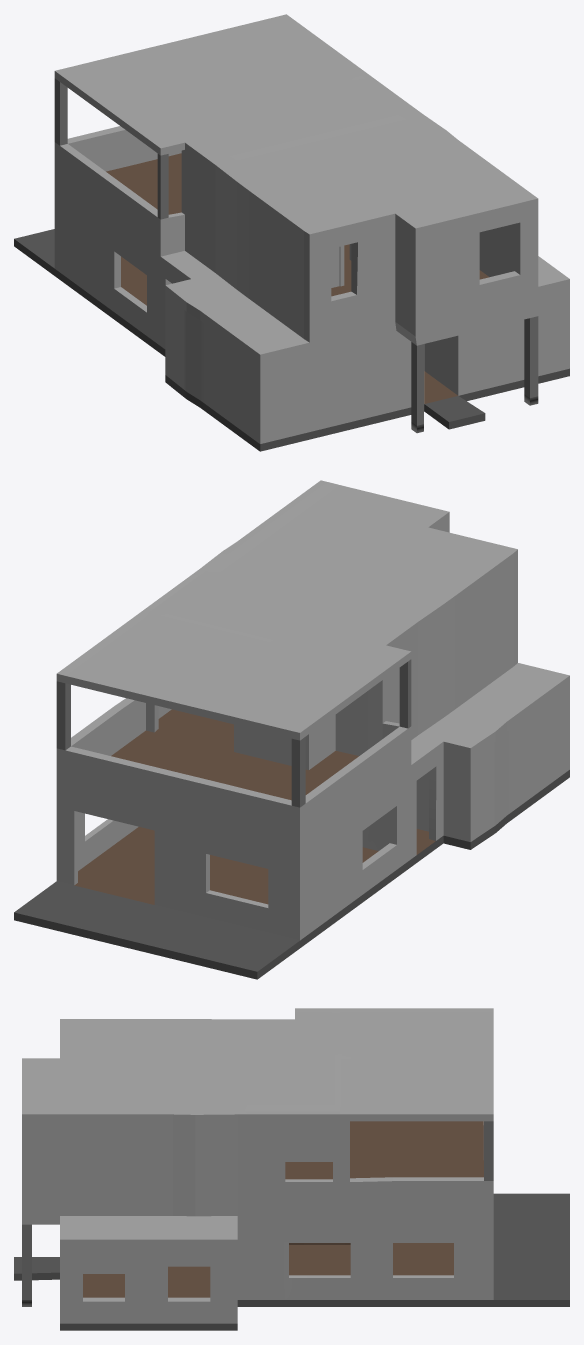
Rendered from Building1.fbx.
The picture shows the model from 3 angles, top to bottom: view 1: azimuth 30°, elevation 25°; view 2: azimuth 150°, elevation 25°; view 3: azimuth 270°, elevation 25°; orthographic projection. The views are drawn at different scales.
Parts seen in each view (by area): view 1: Building; view 2: Building; view 3: Building.
Boxes of the visible parts, left/top/right/bottom form: Building: left=14, top=14, right=569, bottom=451; Building: left=14, top=480, right=569, bottom=979; Building: left=14, top=1008, right=569, bottom=1330.
Bounding box in the file's own units: 592 × 373 × 977.
